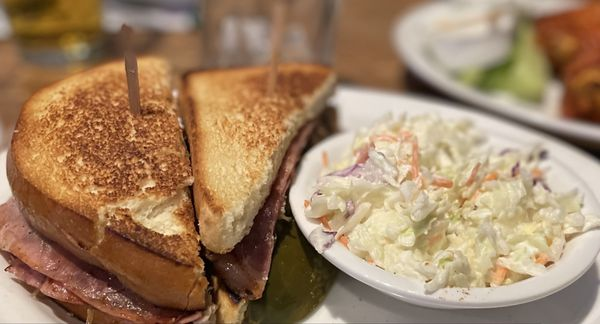soup: (1, 54, 212, 315), (178, 61, 340, 306)
sushi: (287, 107, 600, 311), (391, 3, 600, 156)
